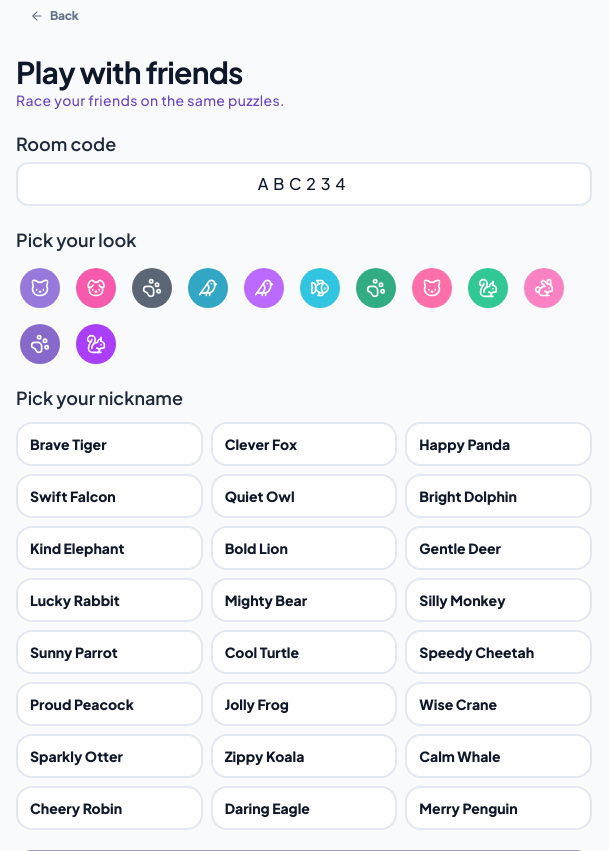
Scenario: joining as a guest › asks to join with the code and a nickname from the list, never a typed name, and waits for the host
Click the button named "fox": coordinates (96, 288) [72,264,120,312]
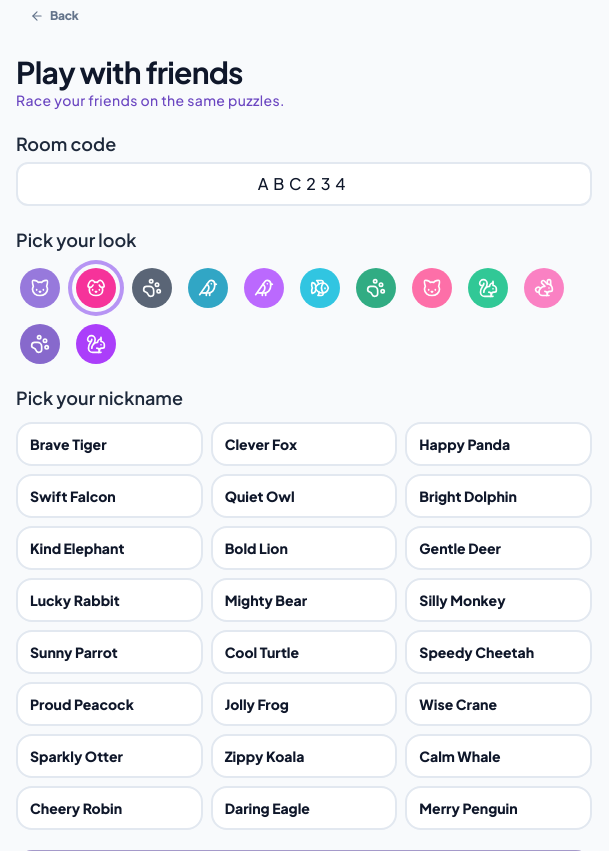
Click the button "Clever Fox": coordinates (304, 444) [211,422,397,466]
(page scrolled)
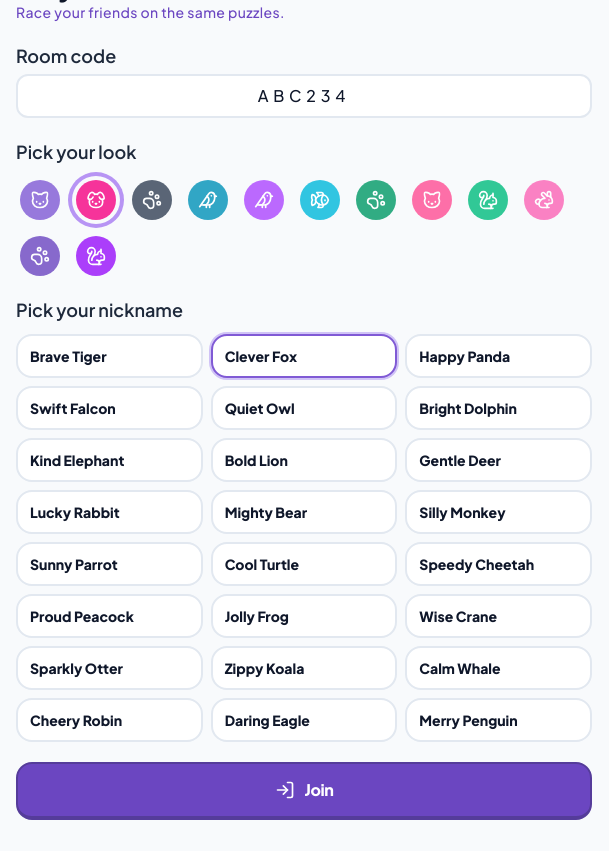
Click the button "Join": coordinates (304, 791) [16,762,592,820]
(page scrolled)
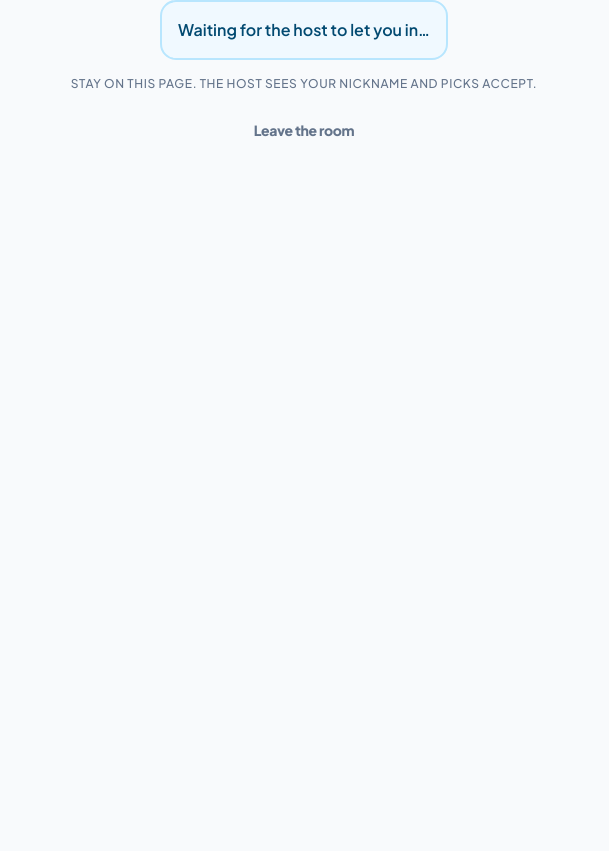
expect the text "Waiting for the host to let you in…" is shown: met, box [160,0,448,60]
